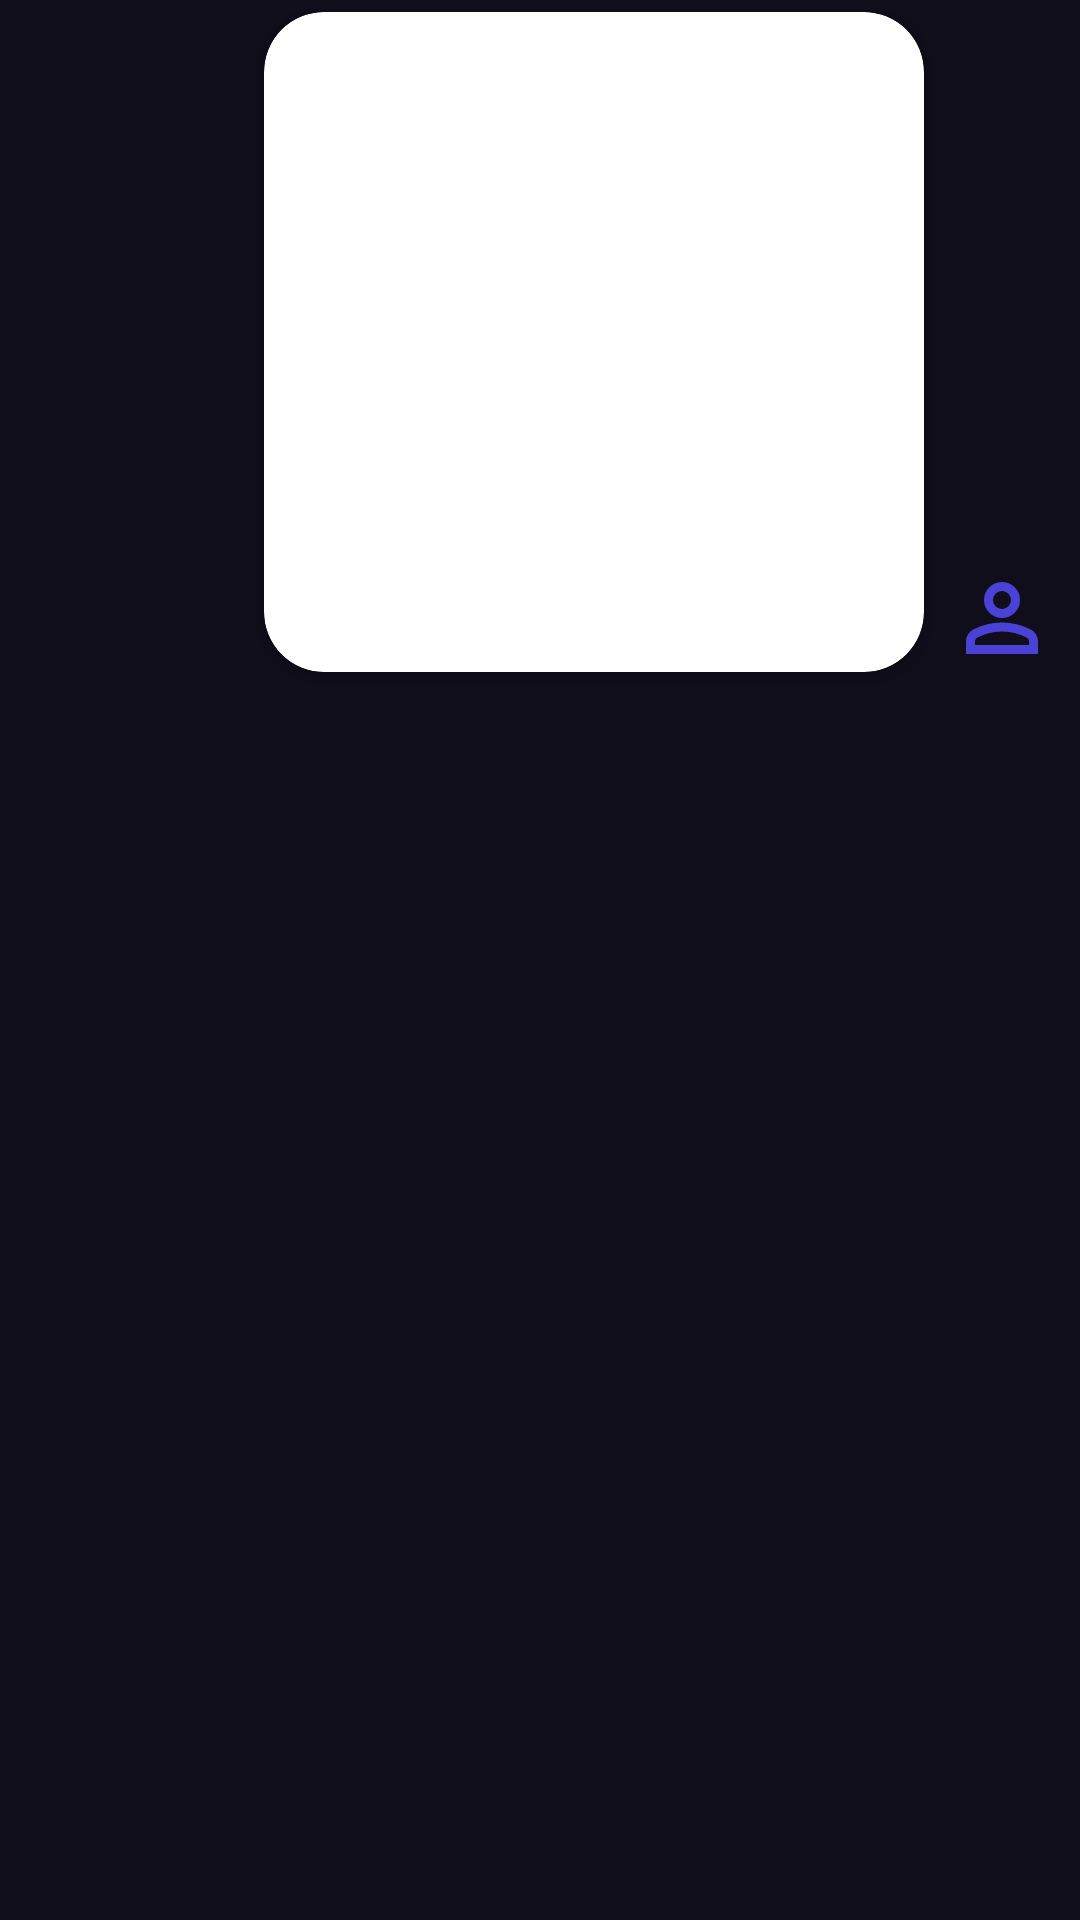

Point at icon controls on the screen. Image size 1080×1920, points as point (x, y).
Profile picture: point (1002, 618)
